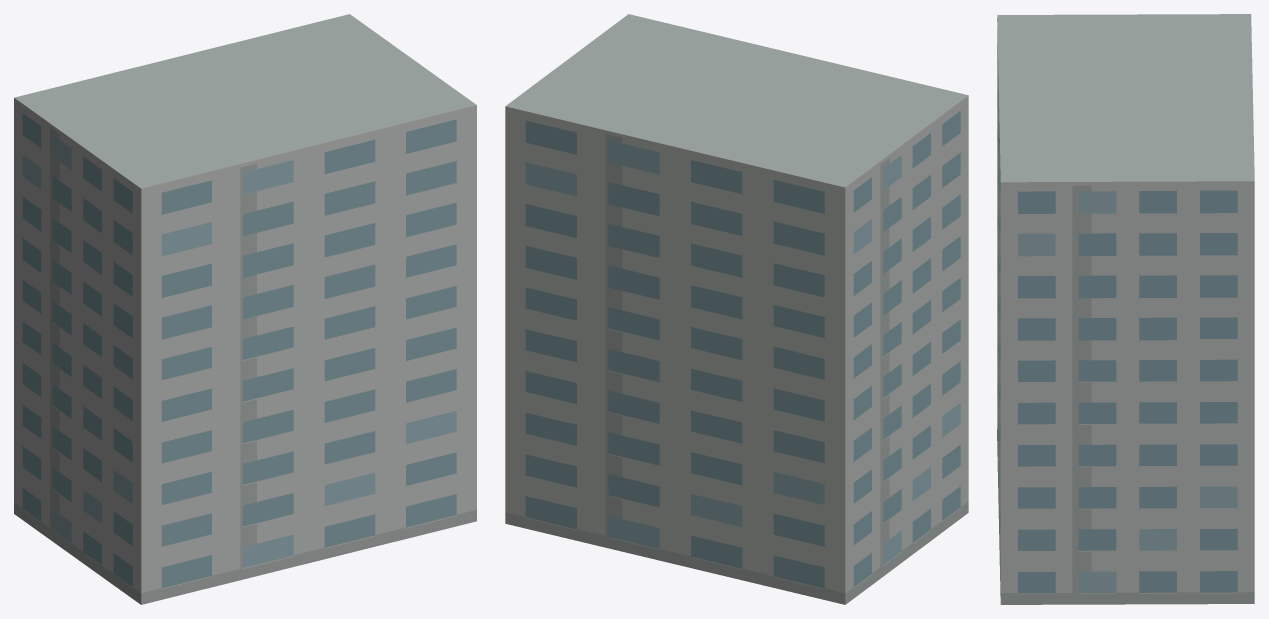
Rendered from residential-102ddbbc-0553-4ebf-99c2-3cdf58840540.glb.
The picture shows the model from 3 angles, left to right: view 1: azimuth 30°, elevation 25°; view 2: azimuth 150°, elevation 25°; view 3: azimuth 270°, elevation 25°; orthographic projection.
Parts seen in each view (by area): view 1: residential-102ddbbc-0553-4ebf-99c2-3cdf58840540.tmp; view 2: residential-102ddbbc-0553-4ebf-99c2-3cdf58840540.tmp; view 3: residential-102ddbbc-0553-4ebf-99c2-3cdf58840540.tmp.
Part boxes in pixels (box(x1,y1,x2,y2)): residential-102ddbbc-0553-4ebf-99c2-3cdf58840540.tmp: box(14, 14, 476, 604); residential-102ddbbc-0553-4ebf-99c2-3cdf58840540.tmp: box(505, 14, 968, 604); residential-102ddbbc-0553-4ebf-99c2-3cdf58840540.tmp: box(997, 14, 1254, 604).
Bounding box in the file's own units: 24.77 × 29 × 16.03.
